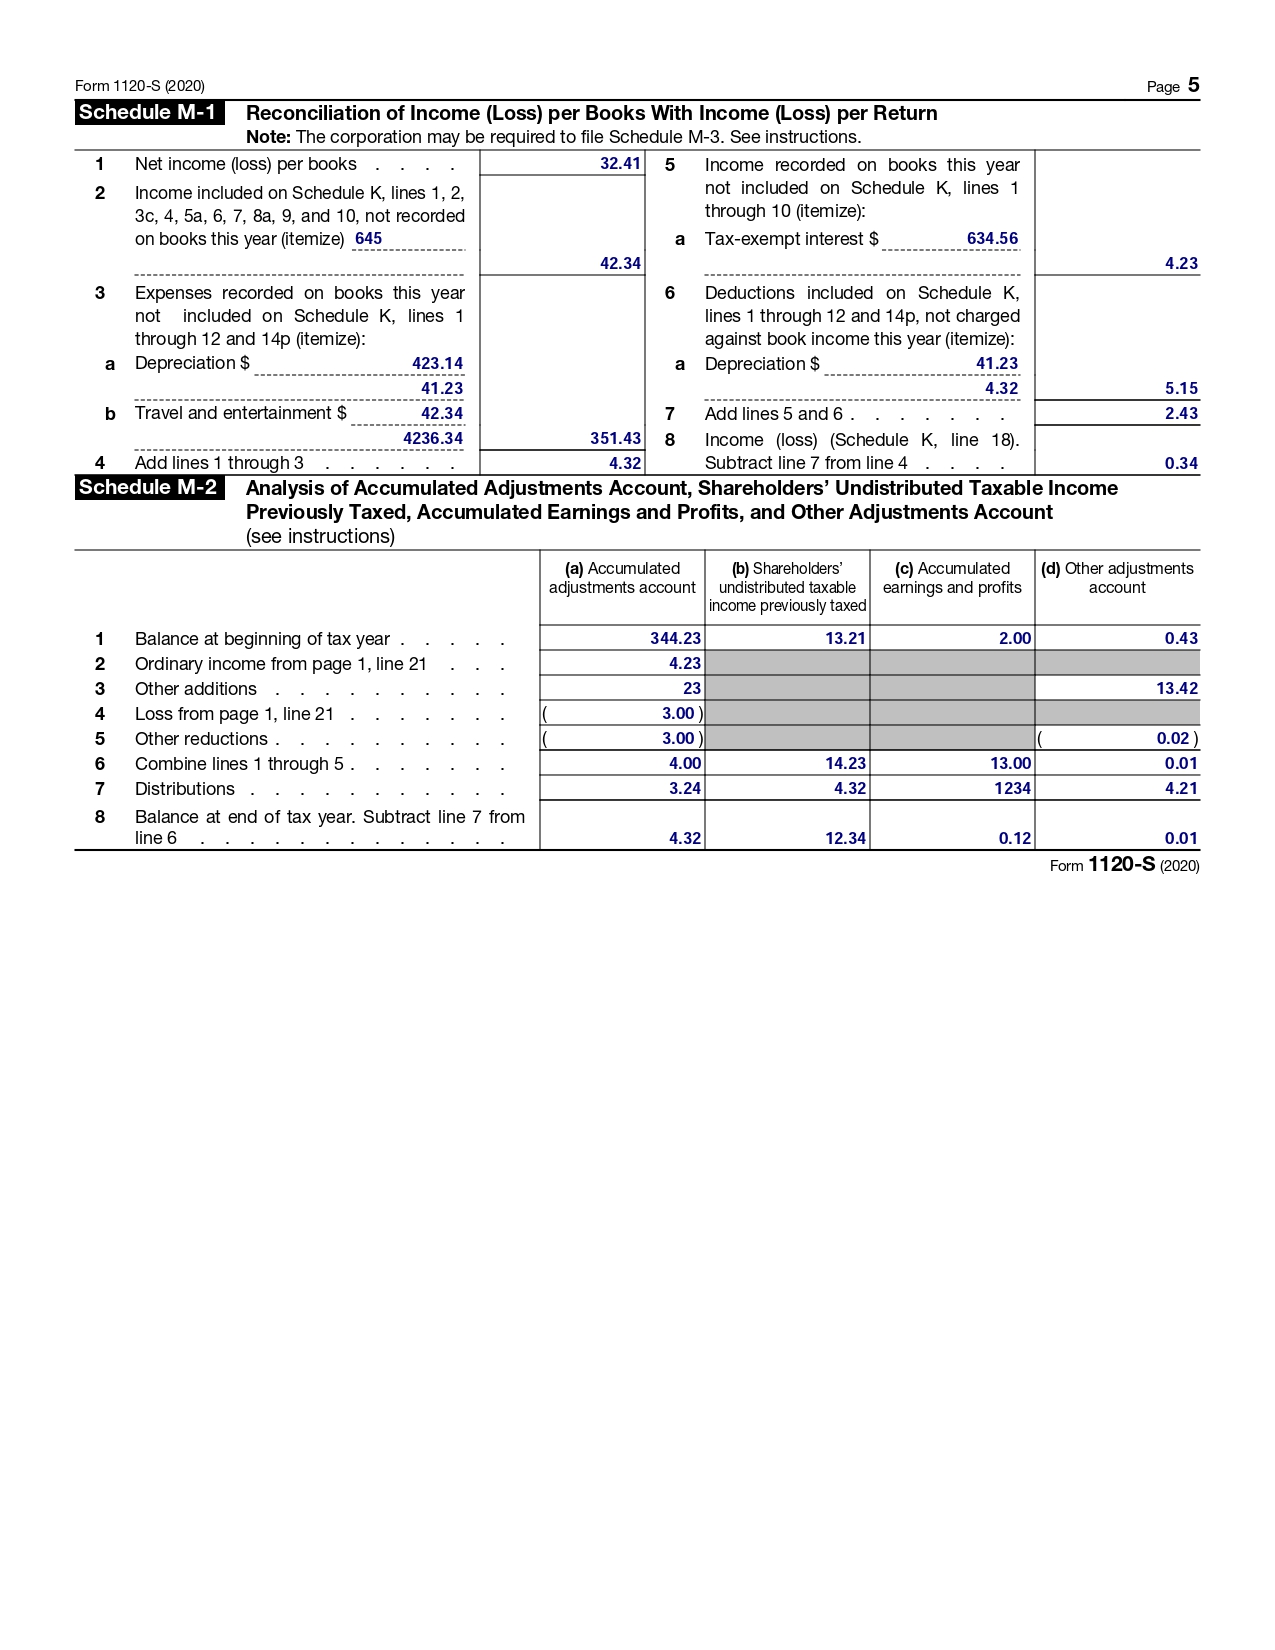table: (60, 546, 1221, 854), (74, 147, 655, 470), (655, 143, 1213, 474)
